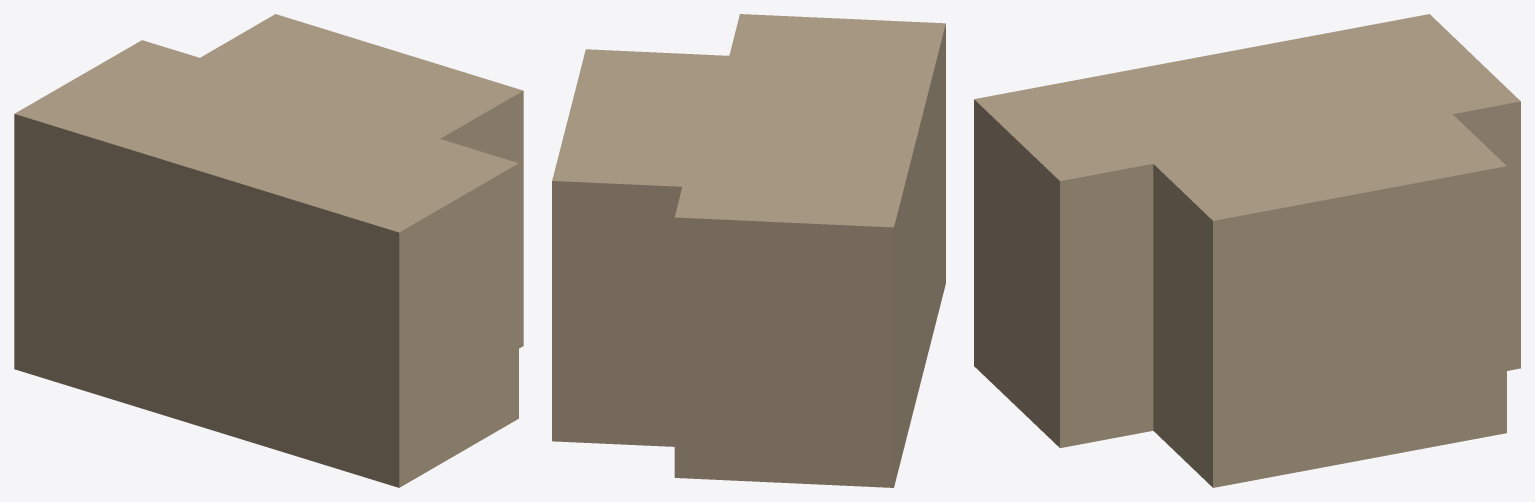
File: bld_106456228.dae
The picture shows the model from 3 angles, left to right: view 1: azimuth 30°, elevation 25°; view 2: azimuth 150°, elevation 25°; view 3: azimuth 270°, elevation 25°; orthographic projection. The views are drawn at different scales.
Parts seen in each view (by area): view 1: bld_106456228; view 2: bld_106456228; view 3: bld_106456228.
Part boxes in pixels (x1=…): bld_106456228: x1=14, y1=14, x2=523, y2=487; bld_106456228: x1=552, y1=14, x2=945, y2=487; bld_106456228: x1=974, y1=14, x2=1520, y2=487.
Bounding box in the file's own units: 13.3 × 14.85 × 8.
